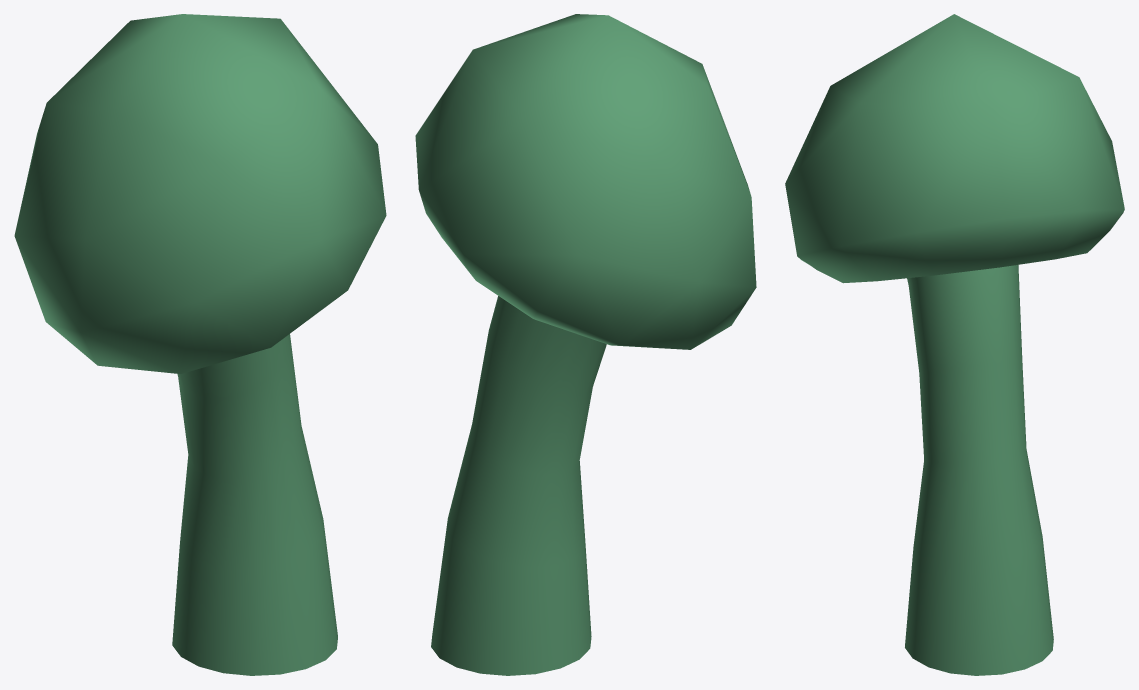
The model's file is Mushroom02.fbx.
The picture shows the model from 3 angles, left to right: view 1: azimuth 30°, elevation 25°; view 2: azimuth 150°, elevation 25°; view 3: azimuth 270°, elevation 25°; orthographic projection. The views are drawn at different scales.
Parts seen in each view (by area): view 1: Mushroom_2_LOD0; view 2: Mushroom_2_LOD0; view 3: Mushroom_2_LOD0.
Part boxes in pixels (bbox=[...]): Mushroom_2_LOD0: bbox=[14, 14, 386, 675]; Mushroom_2_LOD0: bbox=[415, 14, 756, 675]; Mushroom_2_LOD0: bbox=[785, 14, 1124, 675].
Size of what is drawn, in the model's own units: 30.37 by 62.47 by 32.48.
